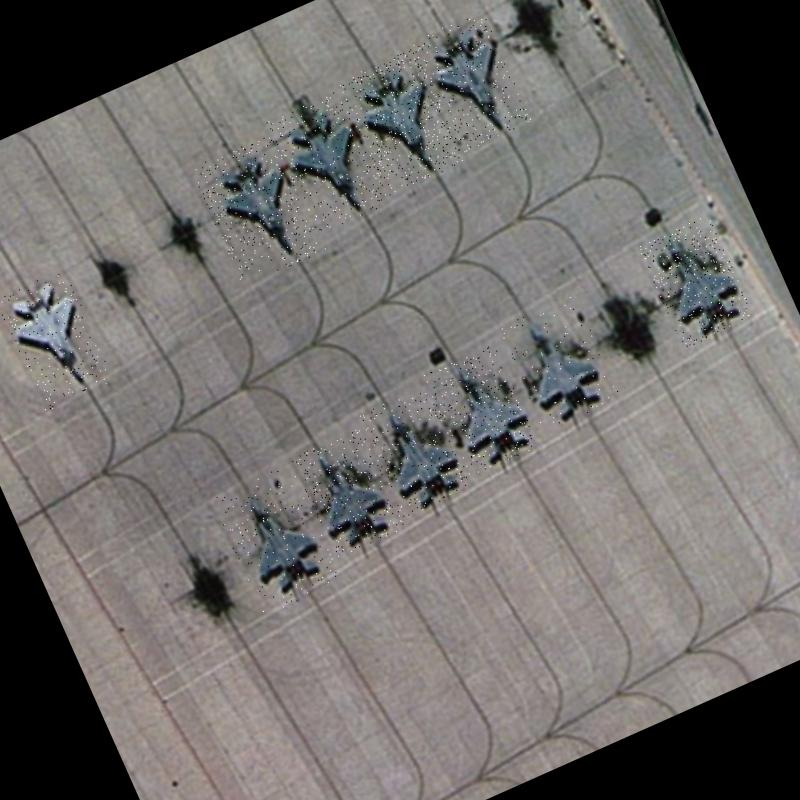A13: (190, 131, 326, 287), (334, 46, 468, 198), (210, 463, 342, 616), (266, 89, 392, 236), (412, 9, 533, 154), (498, 294, 622, 433), (0, 267, 116, 413), (422, 344, 540, 478), (638, 214, 755, 349), (358, 385, 472, 519), (292, 427, 407, 559)
